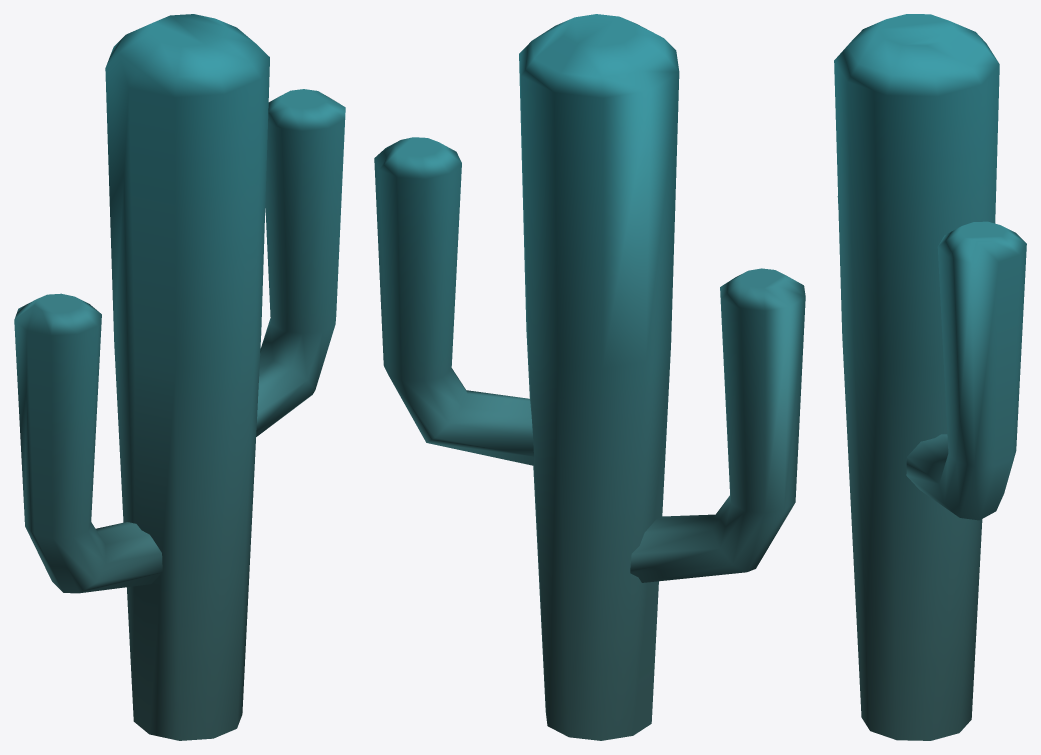
The model's file is Cactus_1.fbx.
The picture shows the model from 3 angles, left to right: view 1: azimuth 30°, elevation 25°; view 2: azimuth 150°, elevation 25°; view 3: azimuth 270°, elevation 25°; orthographic projection.
Visible parts, largest first — view 1: Cactus_1; view 2: Cactus_1; view 3: Cactus_1.
Boxes of the visible parts, box(x1,y1,x2,y2) form: Cactus_1: box(14, 14, 345, 740); Cactus_1: box(374, 14, 805, 740); Cactus_1: box(834, 14, 1026, 740).
Bounding box in the file's own units: 48.81 × 86.86 × 22.04.
